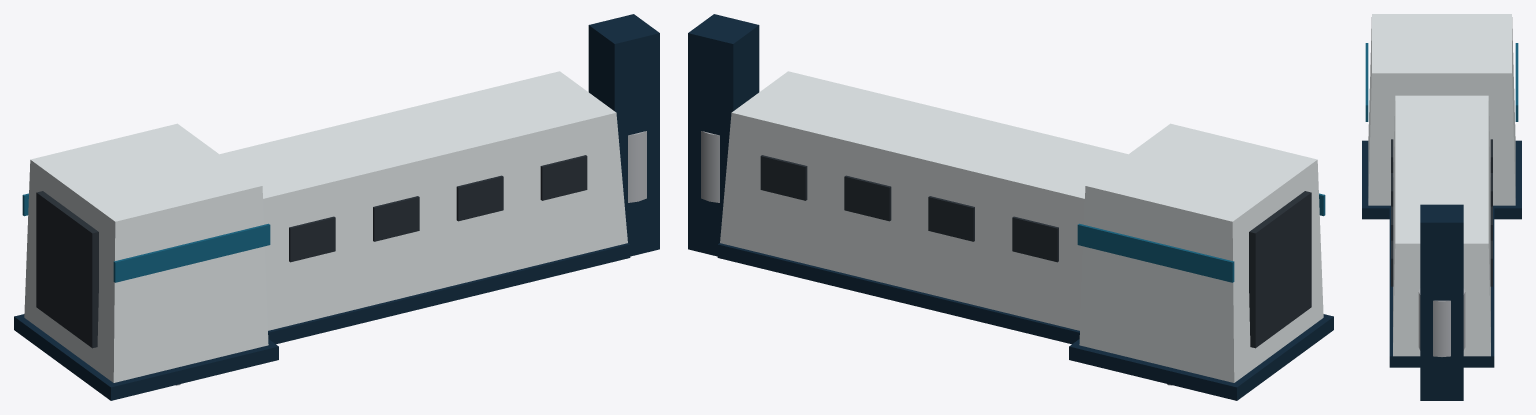
Rendered from world_crew_access_arm.glb.
3 renders of one model, left to right at view 1: azimuth 30°, elevation 25°; view 2: azimuth 150°, elevation 25°; view 3: azimuth 270°, elevation 25°, orthographic. The views are drawn at different scales.
Parts seen in each view (by area): view 1: world_crew_access_arm_mesh; view 2: world_crew_access_arm_mesh; view 3: world_crew_access_arm_mesh.
Boxes of the visible parts, x1,y1,x2,y2 form: world_crew_access_arm_mesh: [14, 14, 659, 400]; world_crew_access_arm_mesh: [688, 14, 1333, 400]; world_crew_access_arm_mesh: [1362, 14, 1521, 400].
Size of the model in its own units: 9.08 by 3.2 by 2.6.
